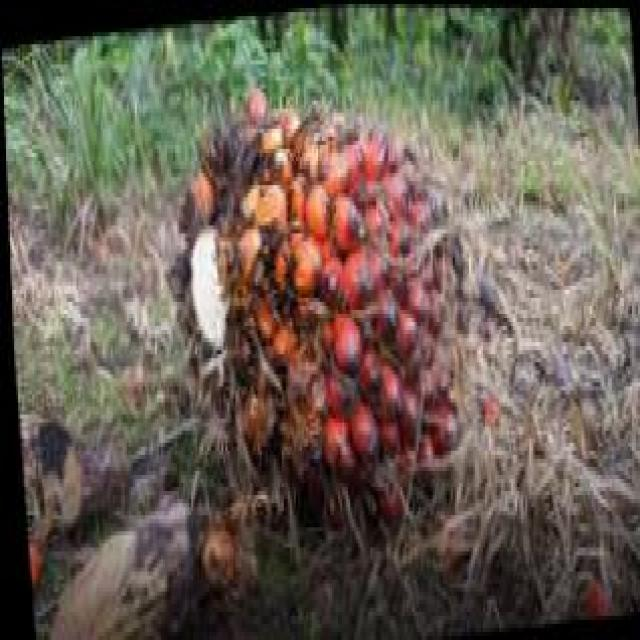Ripefruit: (167, 54, 473, 546)
